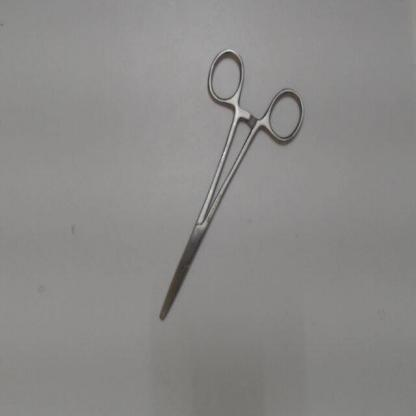Mayo Needle Holder: (152, 42, 312, 334)
